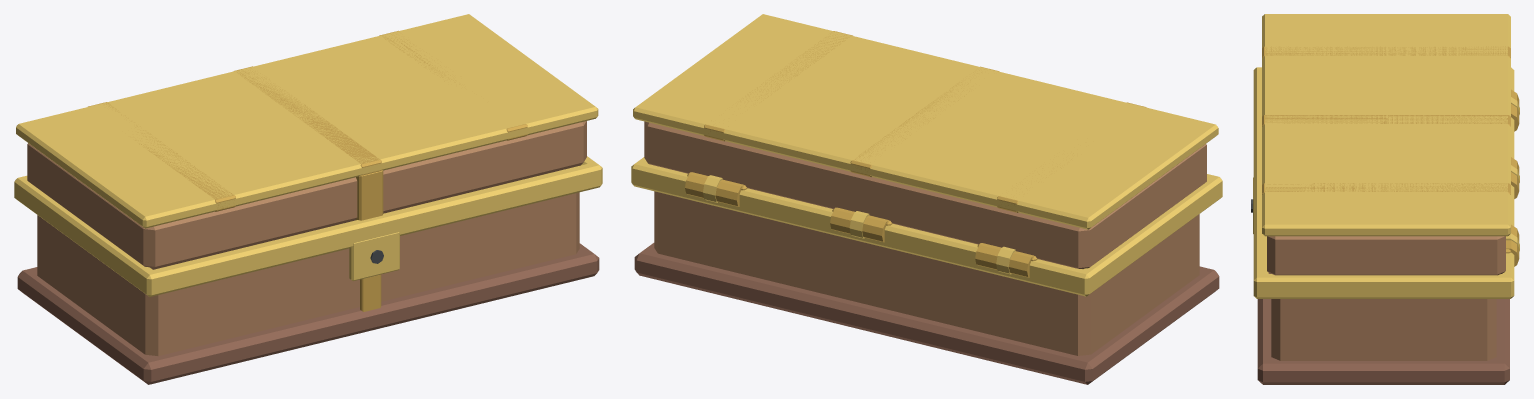
Rendered from LootChestGolden.glb.
3 views of the same model, side by side, from view 1: azimuth 30°, elevation 25°; view 2: azimuth 150°, elevation 25°; view 3: azimuth 270°, elevation 25° (orthographic). The views are drawn at different scales.
Parts seen in each view (by area): view 1: LidMesh, ChestBase; view 2: LidMesh, ChestBase; view 3: LidMesh, ChestBase.
Part boxes in pixels (x1,y1,x2,y2): LidMesh: [16, 14, 598, 269]; ChestBase: [14, 156, 602, 384]; LidMesh: [633, 14, 1218, 274]; ChestBase: [631, 157, 1222, 384]; LidMesh: [1262, 14, 1519, 275]; ChestBase: [1251, 67, 1519, 384].
Bounding box in the file's own units: 3 × 1.06 × 1.6.
